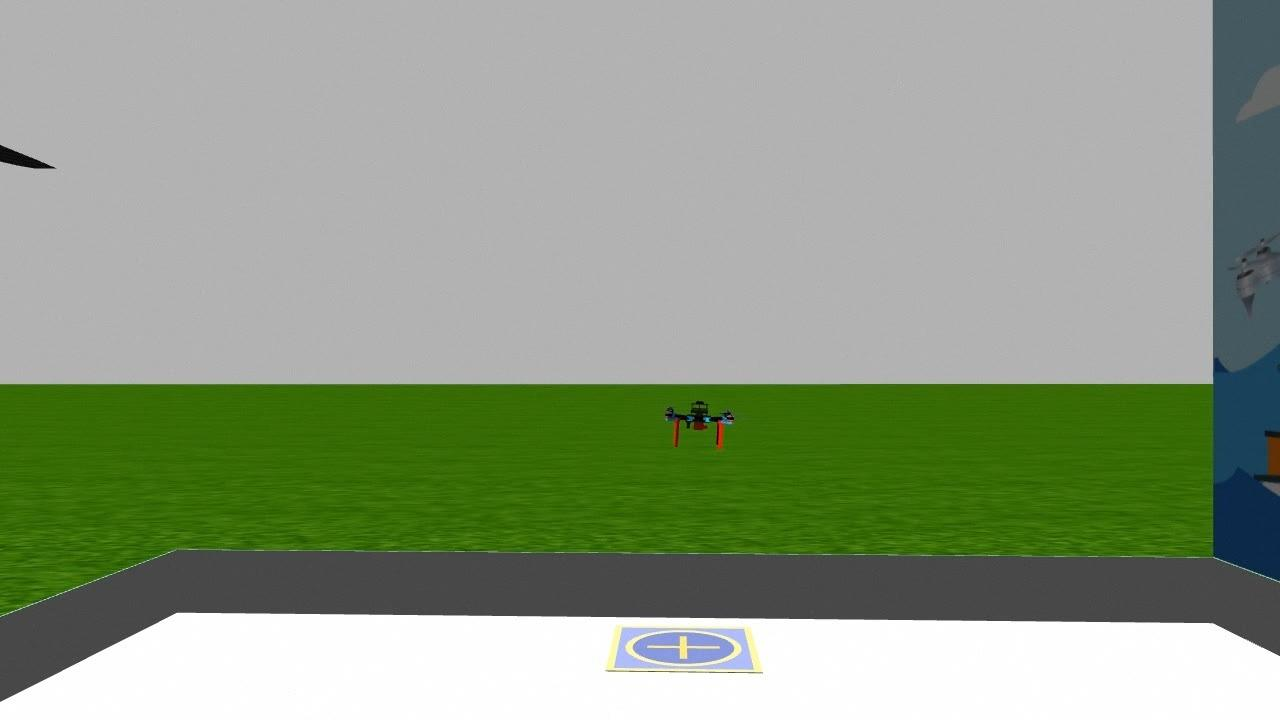UAV: (652, 394, 742, 454)
